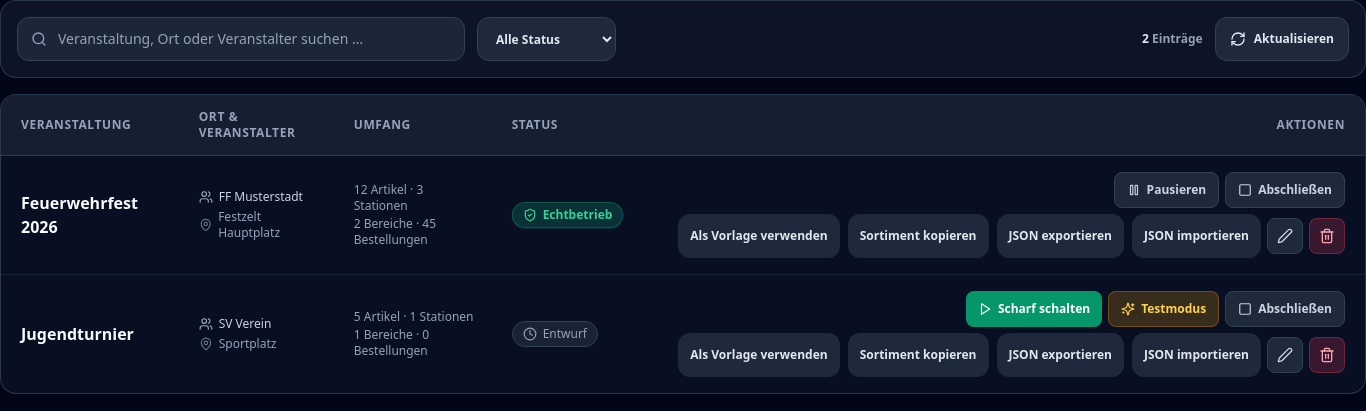
Scenario: AdminEventsView › rendert alle Veranstaltungen und ermöglicht Suche
Expected: the text "Feuerwehrfest 2026" is shown, [21, 192, 138, 238]
Expected: the text "Jugendturnier" is shown, [21, 323, 134, 345]
Type "Musterstadt" into the field with placeholder "Veranstaltung, Ort oder Veranstalter suchen …" at (241, 39), box [17, 17, 465, 61]
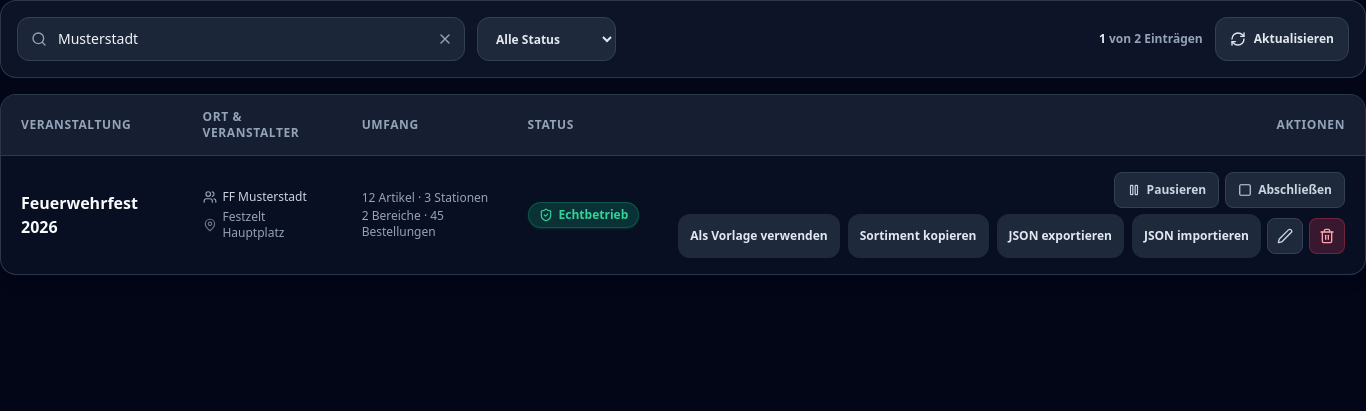
Expected: the text "Feuerwehrfest 2026" is shown, [21, 192, 138, 238]
Expected: the text "Jugendturnier" is gone
